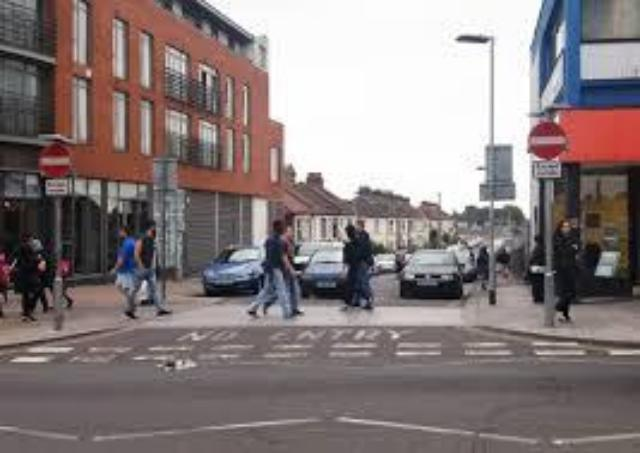B2: (526, 122, 568, 162), (38, 142, 70, 178)
